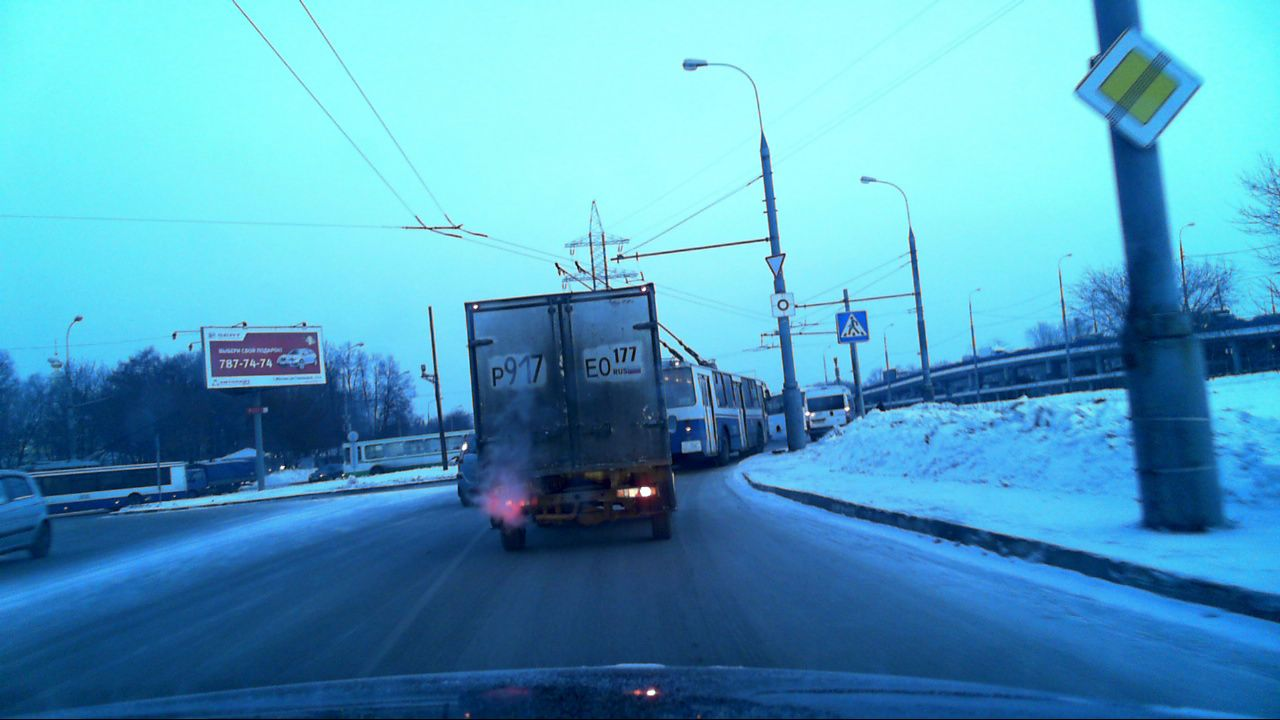main road: (1074, 27, 1204, 151)
